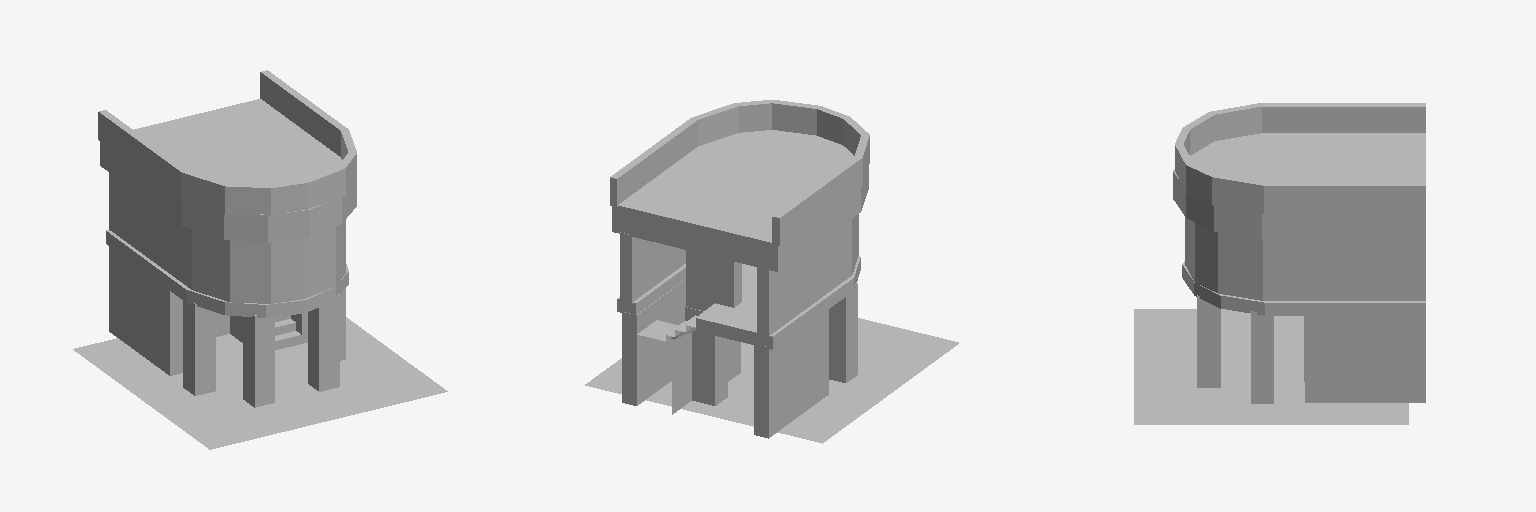
The model's file is DiasColl.obj.
The picture shows the model from 3 angles: view 1: azimuth 30°, elevation 25°; view 2: azimuth 150°, elevation 25°; view 3: azimuth 270°, elevation 25°; orthographic projection.
Parts seen in each view (by area): view 1: 11_-_Default; view 2: 11_-_Default; view 3: 11_-_Default.
Boxes of the visible parts, <box> form: 11_-_Default: <box>73,70,447,449</box>; 11_-_Default: <box>585,100,958,443</box>; 11_-_Default: <box>1134,103,1425,424</box>.
Bounding box in the file's own units: 76 × 68.02 × 80.81.